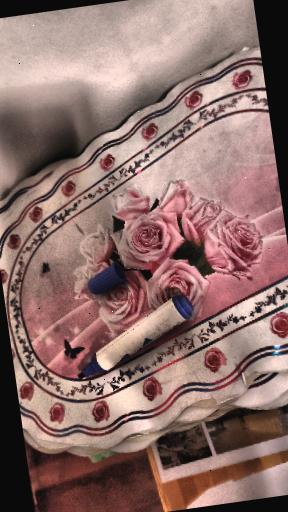marcador azul: (79, 294, 194, 378)
